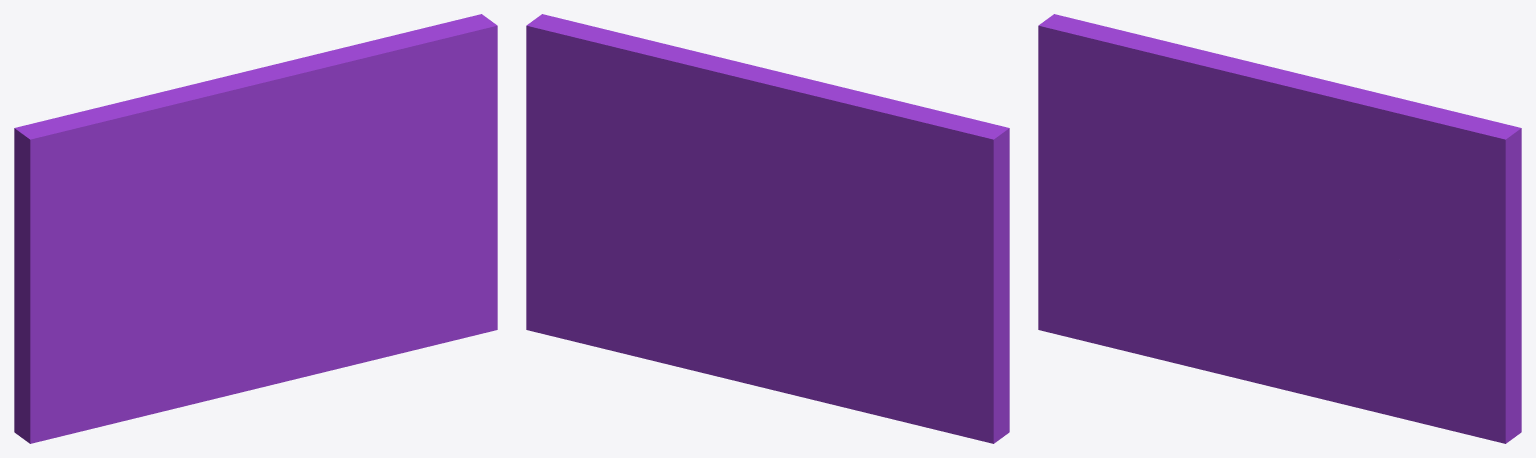
Rendered from Barrier_64_chunks.fbx.
3 renders of one model, left to right at view 1: azimuth 30°, elevation 25°; view 2: azimuth 150°, elevation 25°; view 3: azimuth 330°, elevation 25°, orthographic.
Parts seen in each view (by area): view 1: Barrier_64_1, Barrier_64_3, Barrier_64_2, Barrier_64_0; view 2: Barrier_64_0, Barrier_64_3, Barrier_64_1, Barrier_64_2; view 3: Barrier_64_1, Barrier_64_3, Barrier_64_2, Barrier_64_0.
Boxes of the visible parts, box(x1,y1,x2,y2) form: Barrier_64_1: box(203, 172, 497, 401); Barrier_64_3: box(193, 14, 497, 224); Barrier_64_2: box(14, 84, 277, 262); Barrier_64_0: box(14, 195, 244, 443); Barrier_64_0: box(751, 206, 1009, 443); Barrier_64_3: box(526, 14, 815, 239); Barrier_64_1: box(526, 186, 798, 396); Barrier_64_2: box(785, 77, 1009, 250); Barrier_64_1: box(1211, 231, 1521, 443); Barrier_64_3: box(1232, 57, 1521, 288); Barrier_64_2: box(1038, 14, 1285, 253); Barrier_64_0: box(1038, 149, 1252, 371).
Size of the model in its own units: 462 by 288 by 27.2.
